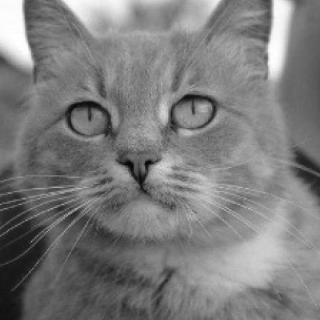cat: (15, 0, 278, 249)
nose: (110, 143, 168, 188)
